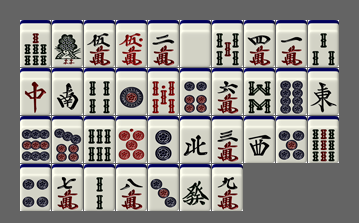0m: (116, 20, 147, 67)
0p: (116, 116, 147, 163)
0s: (148, 68, 179, 115)
1m: (276, 20, 307, 67)
1p: (116, 68, 147, 115)
1s: (52, 20, 83, 67)
1z: (308, 68, 339, 115)
2m: (148, 20, 179, 67)
2p: (148, 116, 179, 163)
2s: (84, 164, 115, 211)
2z: (52, 68, 83, 115)
3m: (212, 116, 243, 163)
3p: (148, 164, 179, 211)
3s: (308, 20, 339, 67)
3z: (244, 116, 275, 163)
4m: (244, 20, 275, 67)
4p: (20, 164, 51, 211)
4s: (84, 68, 115, 115)
4z: (180, 116, 211, 163)
5m: (84, 20, 115, 67)
5p: (276, 116, 307, 163)
5s: (212, 20, 243, 67)
5z: (180, 20, 211, 67)
6m: (212, 68, 243, 115)
6p: (180, 68, 211, 115)
6s: (84, 116, 115, 163)
6z: (180, 164, 211, 211)
7m: (52, 164, 83, 211)
7p: (52, 116, 83, 163)
7s: (20, 20, 51, 67)
7z: (20, 68, 51, 115)
8m: (116, 164, 147, 211)
8p: (276, 68, 307, 115)
8s: (244, 68, 275, 115)
9m: (212, 164, 243, 211)
9p: (20, 116, 51, 163)
9s: (308, 116, 339, 163)
